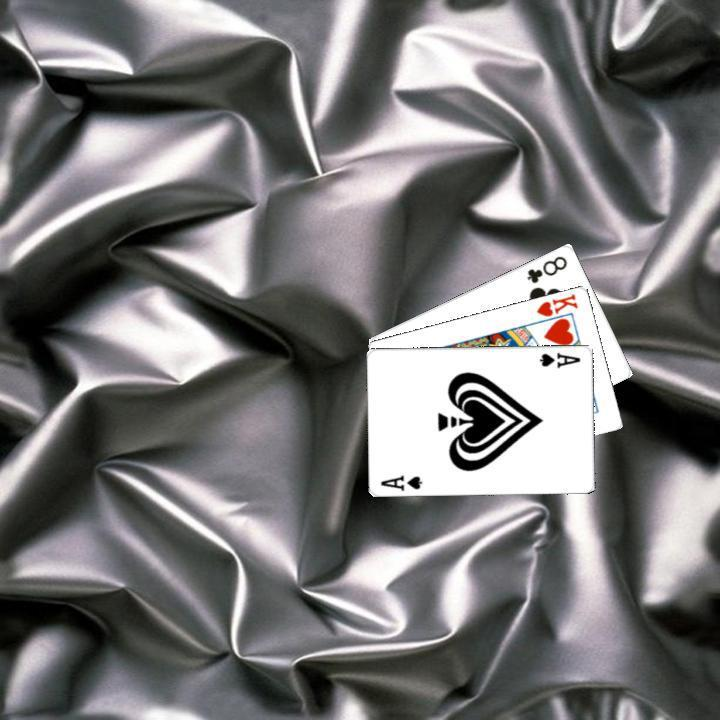8: (523, 251, 569, 285)
A: (536, 347, 583, 370), (376, 471, 425, 492)
K: (532, 289, 580, 318)
